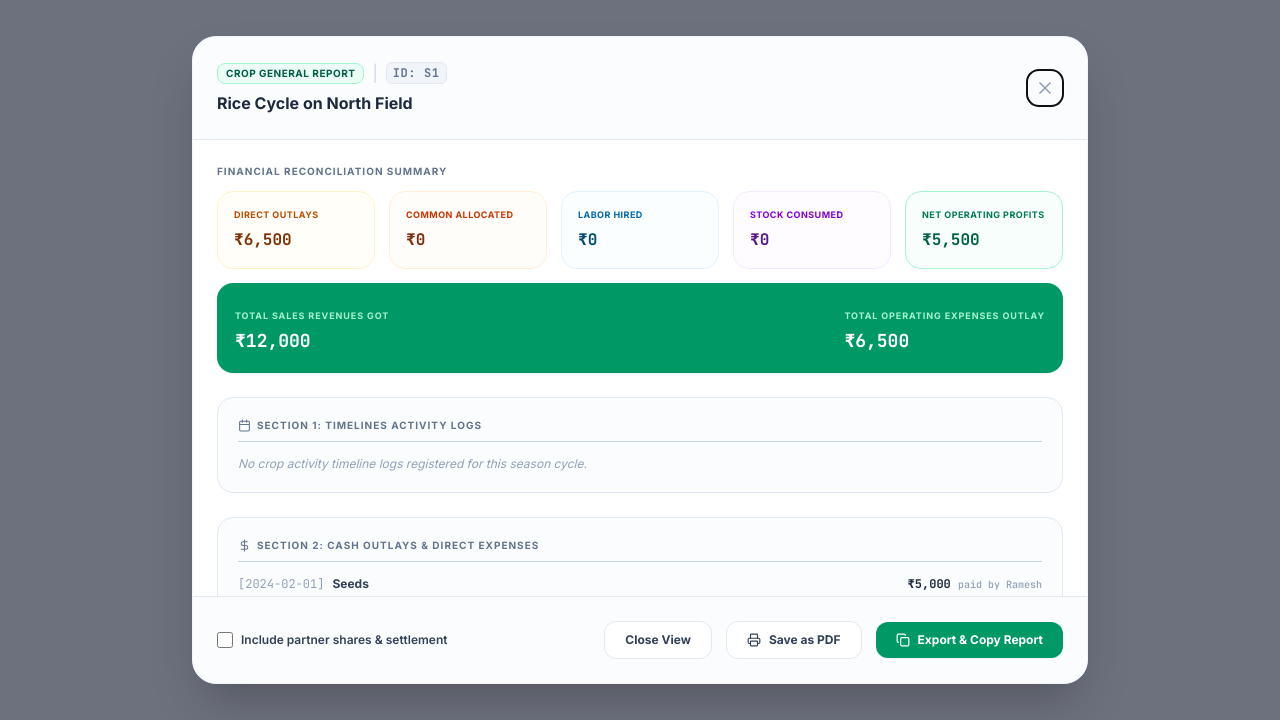
Test case: SeasonReportModal - Section 6: Partner Contributions › lists each partner with their share
What coordinates should you click on to do the following:
click the checkbox labelled "Include partner shares & settlement"
I would click on:
 (225, 640)
Its box is [217, 632, 233, 648].
(page scrolled)
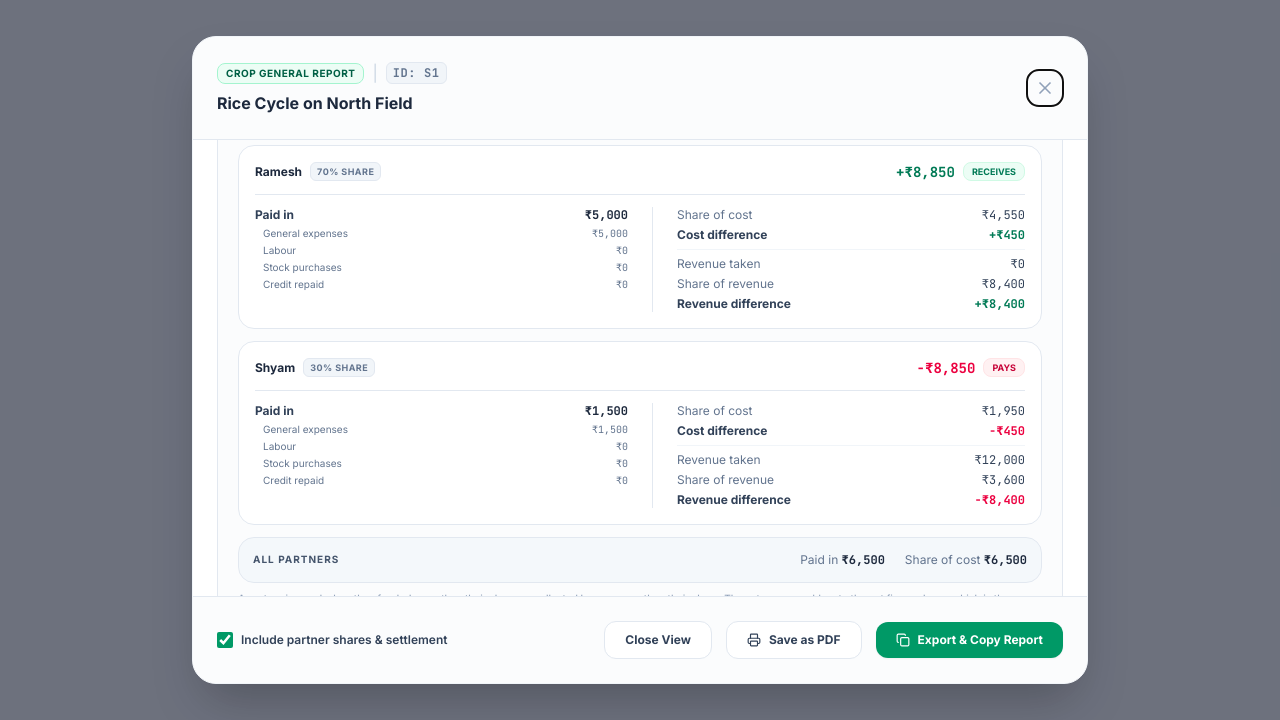
Check: the text "Shyam" is shown, box [255, 360, 295, 376]
Check: the text "70% share" is shown, box [310, 162, 381, 181]
Check: the text "30% share" is shown, box [303, 358, 375, 377]
